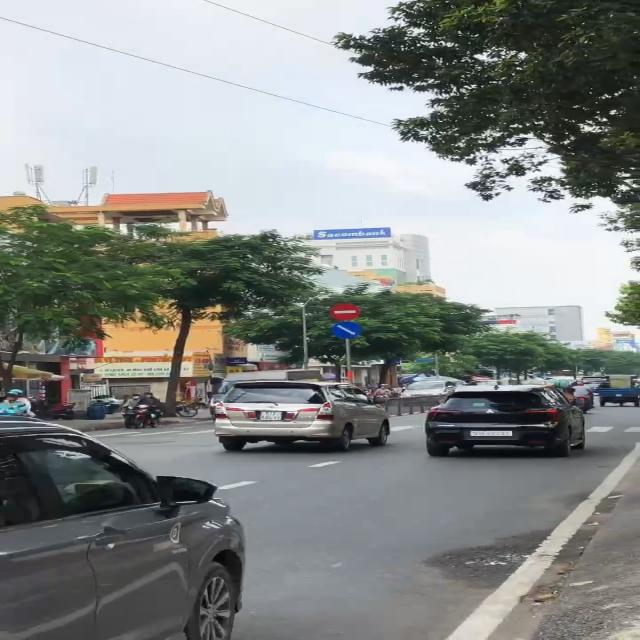Bien bao cam di nguoc chieu: (327, 302, 361, 322)
Bien bao huong phai di vong chuong ngai vat: (328, 321, 367, 340)
